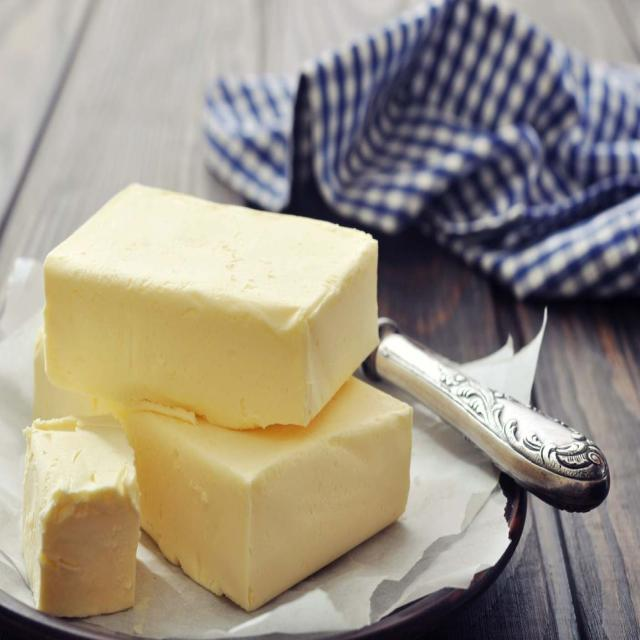Butter: (35, 318, 412, 607), (43, 185, 381, 432), (19, 416, 142, 618)
